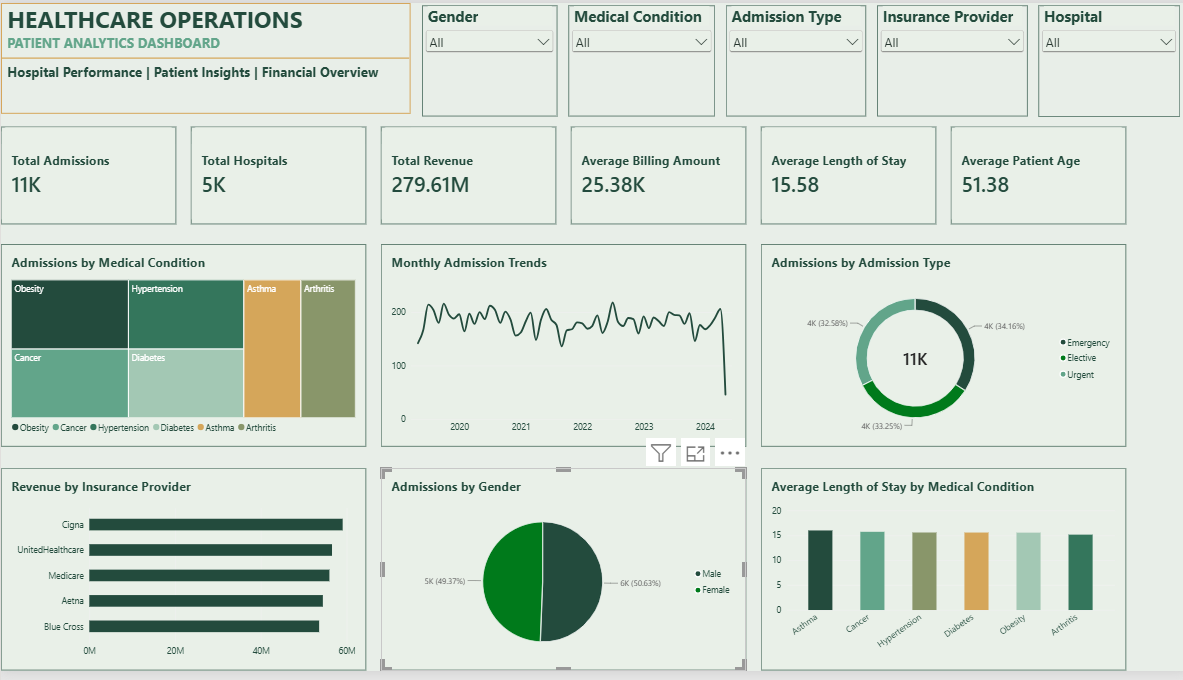

What the dashboard file says about the page in this screenshot:
{"tool":"powerbi","page":{"name":"Page 1","canvas":[1920,1080],"ordinal":0},"visuals":[{"type":"textbox","box":[10.3,0,722.5,220.2],"z":0},{"type":"shape","box":[0,0,662.8,179.1],"z":1000},{"type":"slicer","fields":{"Values":["healthcare_dataset.Gender"]},"box":[681,4.1,218.2,179.1],"z":2000},{"type":"slicer","fields":{"Values":["healthcare_dataset.Medical Condition"]},"box":[917.3,4,236.7,179.1],"z":3000},{"type":"slicer","fields":{"Values":["healthcare_dataset.Admission Type"]},"box":[1172.2,4.1,226.4,179.1],"z":4000},{"type":"slicer","fields":{"Values":["healthcare_dataset.Insurance Provider"]},"box":[1416.8,4.1,242.9,179.1],"z":5000},{"type":"slicer","fields":{"Values":["healthcare_dataset.Hospital"]},"box":[1677.8,4,228.4,179.9],"z":6000},{"type":"cardVisual","fields":{"Data":["healthcare_dataset.Total Admissions"]},"box":[0,200.1,283,157.7],"z":7000},{"type":"cardVisual","fields":{"Data":["healthcare_dataset.Total Hospitals"]},"box":[307.3,200.1,283,157.7],"z":8000},{"type":"cardVisual","fields":{"Data":["healthcare_dataset.Total Revenue"]},"box":[614.5,200.1,283,157.7],"z":9000},{"type":"cardVisual","fields":{"Data":["healthcare_dataset.Average Billing Amount"]},"box":[921.8,200.1,283,157.7],"z":10000},{"type":"cardVisual","fields":{"Data":["healthcare_dataset.Average Length of Stay"]},"box":[1229.1,200.1,283,157.7],"z":11000},{"type":"cardVisual","fields":{"Data":["healthcare_dataset.Average Patient Age"]},"box":[1536.3,200.1,283,157.7],"z":12000},{"type":"treemap","title":"Admissions by Medical Condition","fields":{"Group":["healthcare_dataset.Medical Condition"],"Values":["healthcare_dataset.Total Admissions"]},"box":[0,390.1,590.3,327.5],"z":13000},{"type":"lineChart","title":"Monthly Admission Trends","fields":{"Category":["healthcare_dataset.Date of Admission.Variation.Date Hierarchy.Year","healthcare_dataset.Date of Admission.Variation.Date Hierarchy.Month"],"Y":["healthcare_dataset.Total Admissions"]},"box":[614.5,390.1,590.3,327.5],"z":14000},{"type":"donutChart","title":"Admissions by Admission Type","fields":{"Category":["healthcare_dataset.Admission Type"],"Y":["healthcare_dataset.Total Admissions"]},"box":[1229.1,390.1,590.3,327.5],"z":15000},{"type":"clusteredBarChart","title":"Revenue by Insurance Provider","fields":{"Category":["healthcare_dataset.Insurance Provider"],"Y":["healthcare_dataset.Total Revenue"]},"box":[0,752,590.3,327.5],"z":16000},{"type":"pieChart","title":"Admissions by Gender","fields":{"Category":["healthcare_dataset.Gender"],"Y":["healthcare_dataset.Total Admissions"]},"box":[614.5,752,590.3,327.5],"z":16001},{"type":"clusteredColumnChart","title":"Average Length of Stay by Medical Condition","fields":{"Category":["healthcare_dataset.Medical Condition"],"Y":["healthcare_dataset.Average Length of Stay"]},"box":[1229.1,752,590.3,327.5],"z":16002}]}

Visuals, with their boxes in screenshot pixels (x1, y1, x2, y2), scaled from the page's 1920x1080 canvas onto the 1183x680 screenshot:
textbox: [6, 0, 452, 139]
shape: [0, 0, 408, 113]
slicer - healthcare_dataset.Gender: [420, 3, 554, 115]
slicer - healthcare_dataset.Medical Condition: [565, 3, 711, 115]
slicer - healthcare_dataset.Admission Type: [722, 3, 862, 115]
slicer - healthcare_dataset.Insurance Provider: [873, 3, 1023, 115]
slicer - healthcare_dataset.Hospital: [1034, 3, 1174, 116]
cardVisual - healthcare_dataset.Total Admissions: [0, 126, 174, 225]
cardVisual - healthcare_dataset.Total Hospitals: [189, 126, 364, 225]
cardVisual - healthcare_dataset.Total Revenue: [379, 126, 553, 225]
cardVisual - healthcare_dataset.Average Billing Amount: [568, 126, 742, 225]
cardVisual - healthcare_dataset.Average Length of Stay: [757, 126, 932, 225]
cardVisual - healthcare_dataset.Average Patient Age: [947, 126, 1121, 225]
"Admissions by Medical Condition" treemap: [0, 246, 364, 452]
"Monthly Admission Trends" lineChart: [379, 246, 742, 452]
"Admissions by Admission Type" donutChart: [757, 246, 1121, 452]
"Revenue by Insurance Provider" clusteredBarChart: [0, 473, 364, 679]
"Admissions by Gender" pieChart: [379, 473, 742, 679]
"Average Length of Stay by Medical Condition" clusteredColumnChart: [757, 473, 1121, 679]
